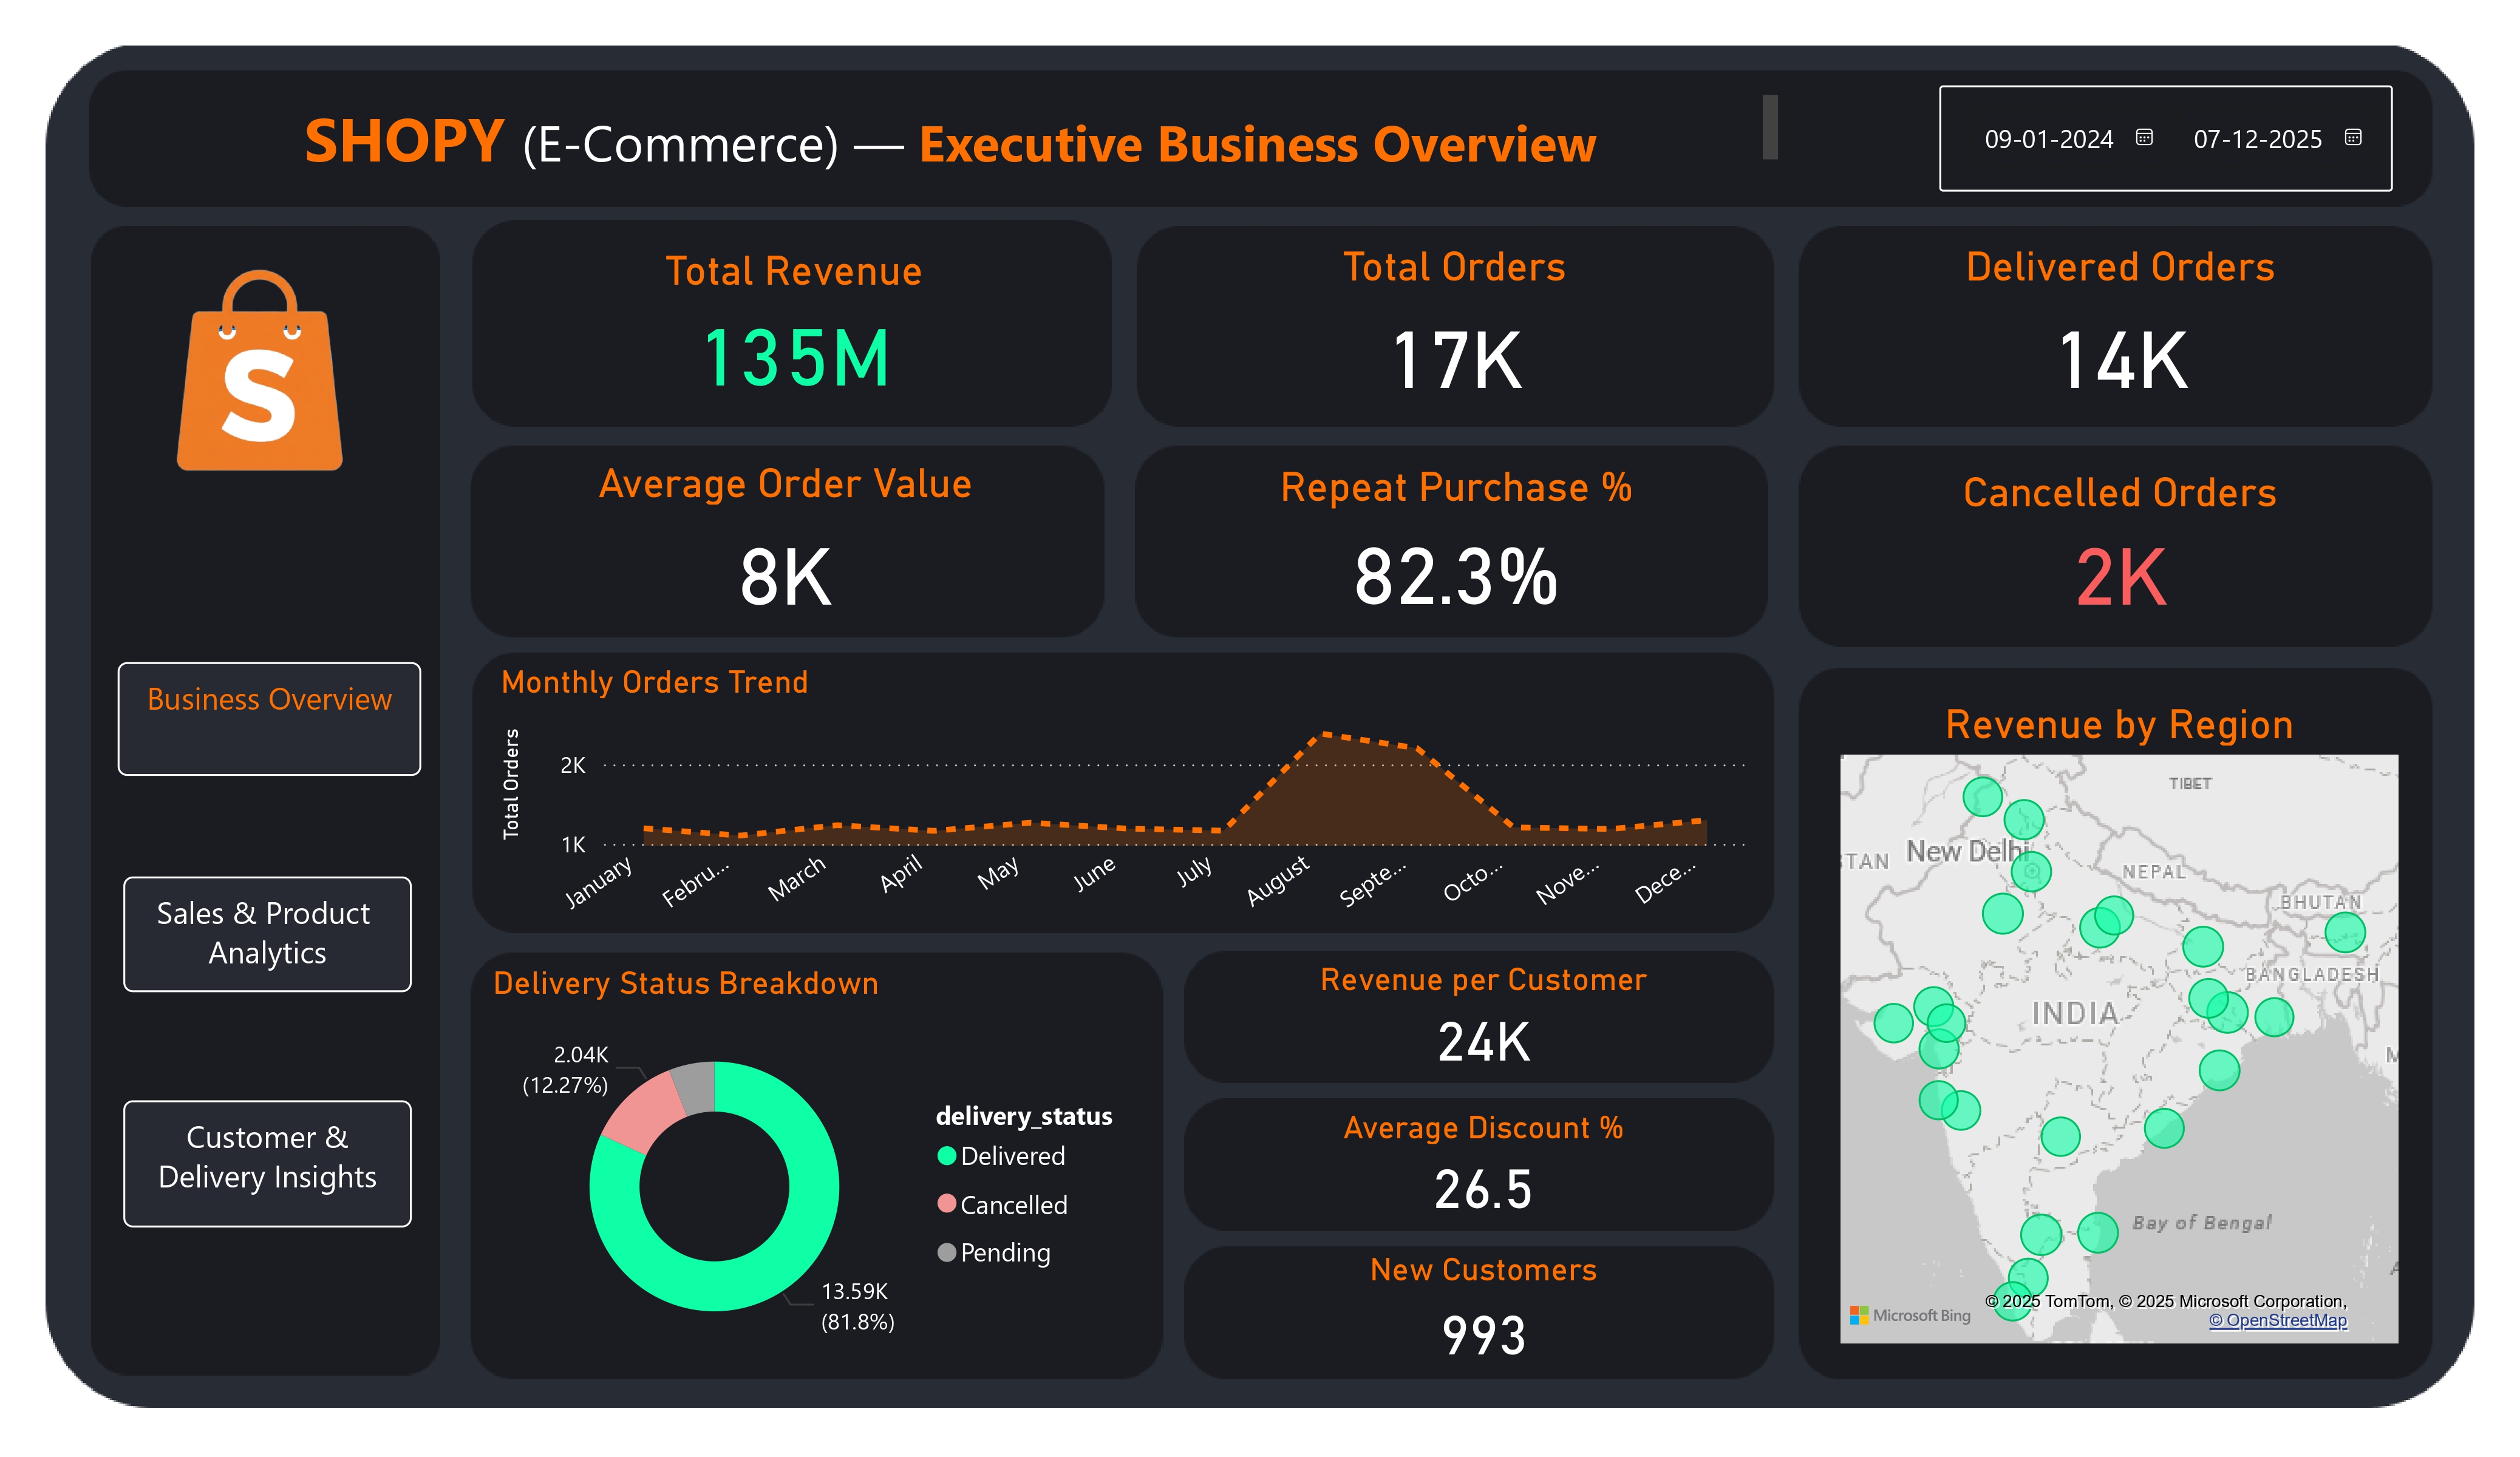

Layout of this report page (visuals, bound fields, positions):
{"tool":"powerbi","page":{"name":"Business Overview","canvas":[1280,720],"ordinal":0},"visuals":[{"type":"textbox","box":[43.8,21.2,873.8,55],"z":0},{"type":"card","title":"Total Orders","fields":{"Values":["Shopy_Master_Cleaned_Cleaned_Final.Total Orders"]},"box":[583.8,103.8,317.5,90],"z":1000},{"type":"shape","box":[78.8,148.8,72.5,70],"z":2000},{"type":"card","title":"Cancelled Orders","fields":{"Values":["Shopy_Master_Cleaned_Cleaned_Final.Cancelled Orders"]},"box":[933.8,222.5,318.8,81.2],"z":3000},{"type":"donutChart","title":"Delivery Status Breakdown","fields":{"Y":["Count(Shopy_Master_Cleaned_Cleaned_Final.order_id)"],"Category":["Shopy_Master_Cleaned_Cleaned_Final.delivery_status"]},"box":[231.2,483.8,351.2,216.2],"z":4000},{"type":"card","title":"Delivered Orders","fields":{"Values":["Shopy_Master_Cleaned_Cleaned_Final.Delivered Orders"]},"box":[933.8,103.8,318.8,90],"z":5000},{"type":"map","title":"Revenue by Region","fields":{"Size":["Sum(Shopy_Master_Cleaned_Cleaned_Final.order_value)"],"Category":["Shopy_Master_Cleaned_Cleaned_Final.region"]},"box":[940,343.8,303.8,343.8],"z":6000},{"type":"card","title":"Total Revenue","fields":{"Values":["Shopy_Master_Cleaned_Cleaned_Final.Total Revenue"]},"box":[235,106.2,318.8,83.8],"z":7000},{"type":"lineChart","title":"Monthly Orders Trend","fields":{"Category":["Shopy_Master_Cleaned_Cleaned_Final.order_date.Variation.Date Hierarchy.Month"],"Y":["Shopy_Master_Cleaned_Cleaned_Final.Total Orders"]},"box":[235,325,666.2,143.8],"z":8000},{"type":"card","title":"Repeat Purchase %","fields":{"Values":["Shopy_Master_Cleaned_Cleaned_Final.Repeat Purchase %"]},"box":[583.8,220,318.8,86.2],"z":9000},{"type":"card","title":"Average Order Value","fields":{"Values":["Shopy_Master_Cleaned_Cleaned_Final.Average Order Value"]},"box":[231.2,217.5,317.5,91.2],"z":10000},{"type":"card","title":"Revenue per Customer","fields":{"Values":["Shopy_Master_Cleaned_Cleaned_Final.Revenue per Customer"]},"box":[615,481.2,286.2,63.8],"z":11000},{"type":"card","title":"Average Discount %","fields":{"Values":["Shopy_Master_Cleaned_Cleaned_Final.Average Discount"]},"box":[615,558.8,286.2,63.8],"z":12000},{"type":"card","title":"New Customers","fields":{"Values":["Shopy_Master_Cleaned_Cleaned_Final.New Customers"]},"box":[615,633.8,286.2,63.8],"z":13000},{"type":"slicer","title":"Date Range","fields":{"Values":["Shopy_Master_Cleaned_Cleaned_Final.order_date"]},"box":[997.7,20.9,239.5,55.8],"z":14000},{"type":"textbox","box":[38,325,159.8,71.7],"z":15000},{"type":"textbox","box":[41.2,437.5,151.2,61.2],"z":16000},{"type":"textbox","box":[41.2,556.2,151.2,66.2],"z":17000},{"type":"image","box":[48.8,106.2,136.2,135],"z":18000},{"type":"actionButton","box":[41.3,438,151.1,60.9],"z":19000},{"type":"actionButton","box":[40.7,555.8,151.2,66.3],"z":19001}]}

Visuals, with their boxes on the page's 1280x720 design canvas (x1, y1, x2, y2). These are canvas units, not pixel positions in the 2520x1457 screenshot, which may show the page scaled, cropped or inside an application window:
textbox: bbox=[44, 21, 918, 76]
"Total Orders" card: bbox=[584, 104, 901, 194]
shape: bbox=[79, 149, 151, 219]
"Cancelled Orders" card: bbox=[934, 222, 1253, 304]
"Delivery Status Breakdown" donutChart: bbox=[231, 484, 582, 700]
"Delivered Orders" card: bbox=[934, 104, 1253, 194]
"Revenue by Region" map: bbox=[940, 344, 1244, 688]
"Total Revenue" card: bbox=[235, 106, 554, 190]
"Monthly Orders Trend" lineChart: bbox=[235, 325, 901, 469]
"Repeat Purchase %" card: bbox=[584, 220, 903, 306]
"Average Order Value" card: bbox=[231, 218, 549, 309]
"Revenue per Customer" card: bbox=[615, 481, 901, 545]
"Average Discount %" card: bbox=[615, 559, 901, 623]
"New Customers" card: bbox=[615, 634, 901, 698]
"Date Range" slicer: bbox=[998, 21, 1237, 77]
textbox: bbox=[38, 325, 198, 397]
textbox: bbox=[41, 438, 192, 499]
textbox: bbox=[41, 556, 192, 622]
image: bbox=[49, 106, 185, 241]
actionButton: bbox=[41, 438, 192, 499]
actionButton: bbox=[41, 556, 192, 622]
